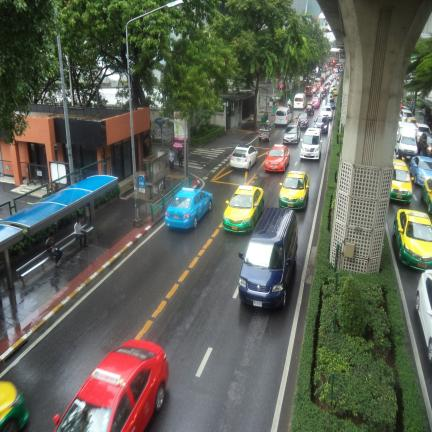car: (415, 270, 432, 364), (230, 145, 258, 170), (410, 156, 432, 185), (417, 131, 432, 157), (421, 178, 432, 213), (283, 122, 300, 144), (275, 107, 292, 127), (416, 123, 431, 143), (314, 115, 329, 133), (319, 105, 333, 120), (296, 113, 309, 128), (399, 108, 412, 121), (402, 117, 418, 127), (326, 94, 335, 110), (312, 96, 321, 108), (304, 85, 313, 96), (332, 86, 338, 96), (411, 125, 414, 126)
human: (46, 234, 63, 266), (74, 216, 87, 250), (177, 148, 184, 170), (169, 147, 174, 170)
taxi: (53, 340, 169, 432), (393, 209, 432, 269), (165, 187, 213, 229), (223, 186, 264, 232), (0, 381, 29, 432), (279, 171, 309, 209), (390, 159, 414, 203), (265, 144, 290, 171), (332, 86, 338, 96)
truck: (395, 123, 418, 158)
van: (239, 208, 298, 308), (395, 126, 418, 158), (300, 128, 322, 160), (293, 93, 306, 109)
